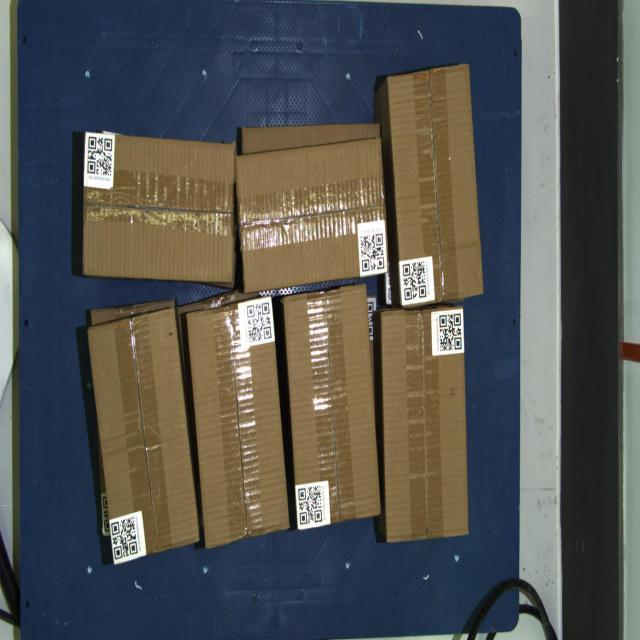box: (88, 307, 200, 565), (186, 296, 290, 550), (236, 138, 390, 293), (284, 284, 381, 530), (387, 64, 484, 309), (82, 132, 234, 284), (380, 306, 470, 543)
